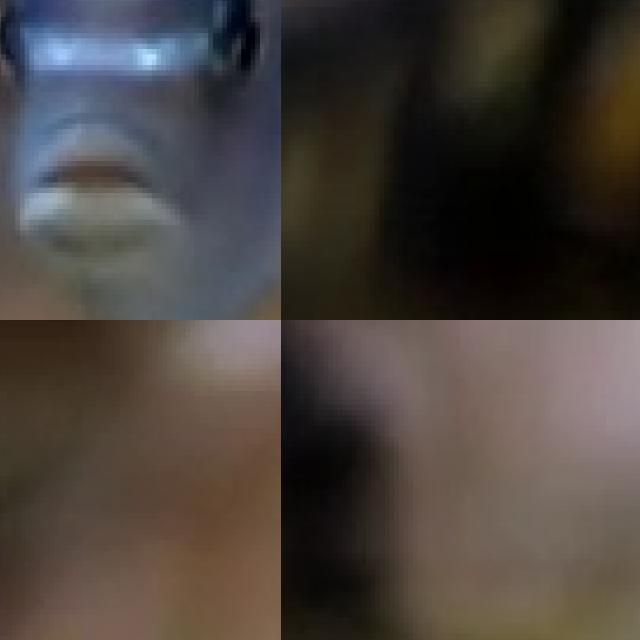fish: (281, 0, 640, 320), (0, 0, 281, 320)
